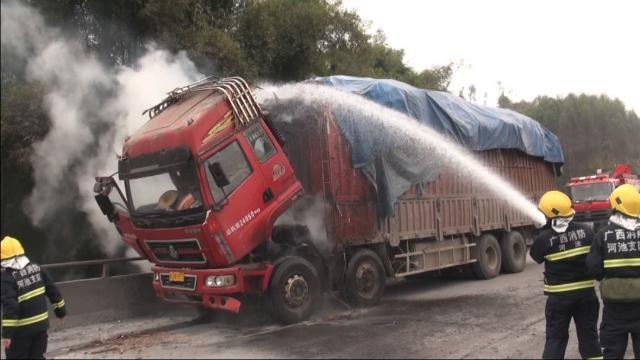smoke: (52, 95, 96, 176), (38, 55, 116, 98), (124, 59, 184, 92)
